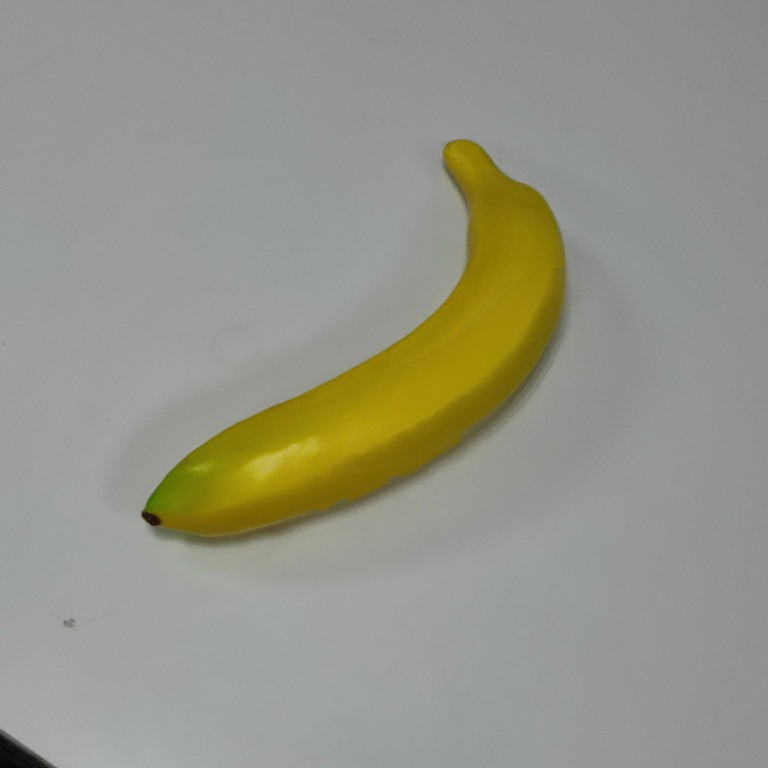fruit_banana: (134, 132, 572, 552)
